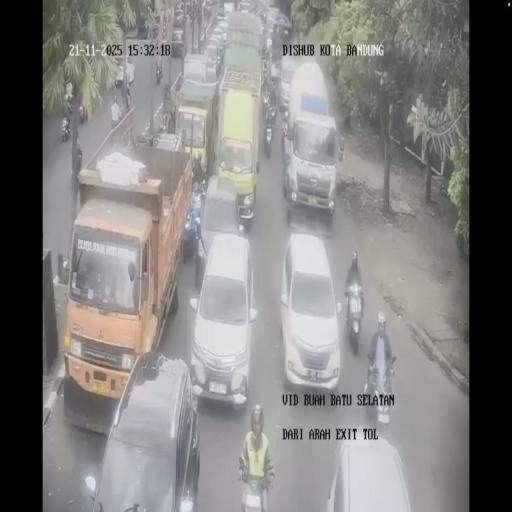3: (282, 60, 340, 226), (174, 74, 219, 182), (222, 10, 264, 82), (113, 52, 134, 87)
car: (89, 353, 199, 508), (279, 233, 340, 395), (326, 434, 412, 510), (194, 173, 244, 281), (182, 53, 210, 90), (204, 42, 223, 80), (268, 57, 282, 101), (264, 6, 280, 43), (216, 16, 230, 40), (172, 28, 183, 55), (173, 4, 184, 27), (222, 0, 234, 18), (238, 0, 252, 14)
truck: (364, 358, 394, 427), (343, 281, 365, 352), (182, 194, 198, 263), (262, 105, 275, 157), (280, 110, 289, 160), (62, 114, 70, 142), (155, 58, 163, 83), (78, 100, 86, 124), (203, 2, 212, 22), (64, 95, 73, 115), (125, 84, 131, 110), (150, 22, 158, 39)
